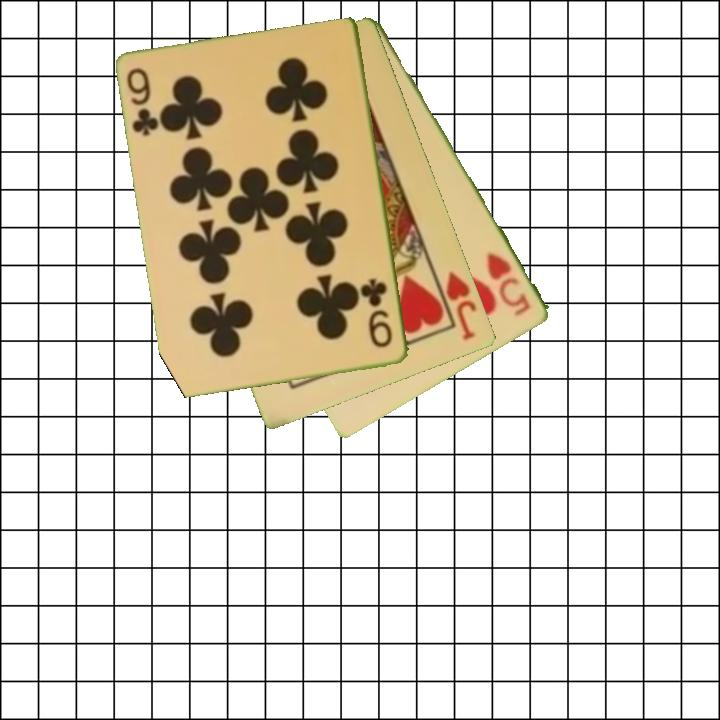5h: (483, 249, 534, 320)
9c: (123, 64, 162, 140), (360, 275, 396, 351)
Jh: (442, 268, 480, 344)
